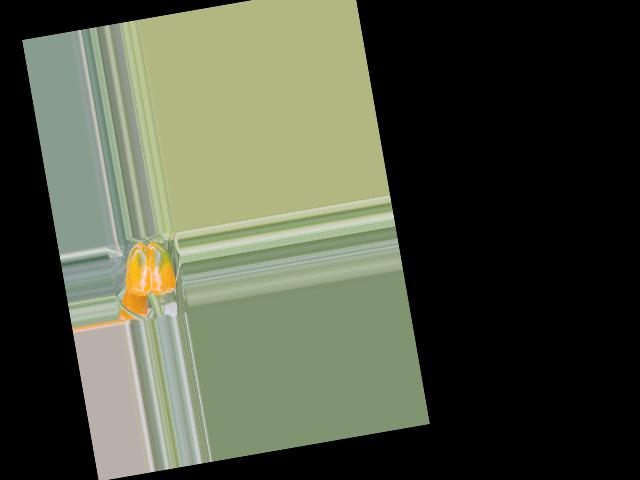bell_pepper: (116, 232, 185, 307)
